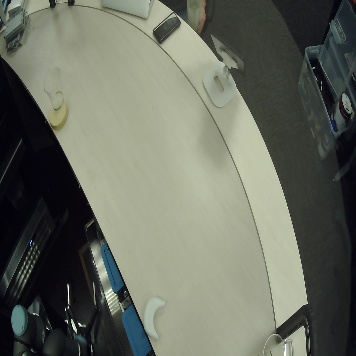empty_cup: (258, 327, 296, 356), (42, 66, 65, 111)
puck: (142, 297, 167, 341), (48, 105, 68, 130)
